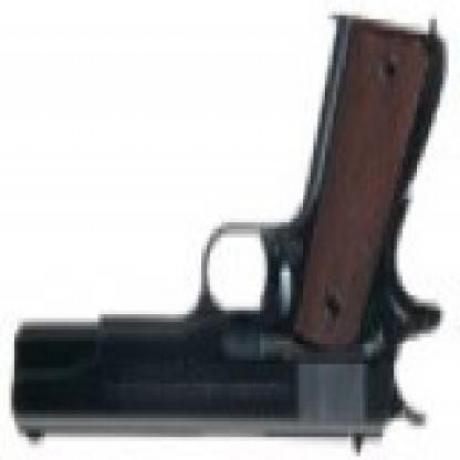weapon: (5, 17, 446, 455)
